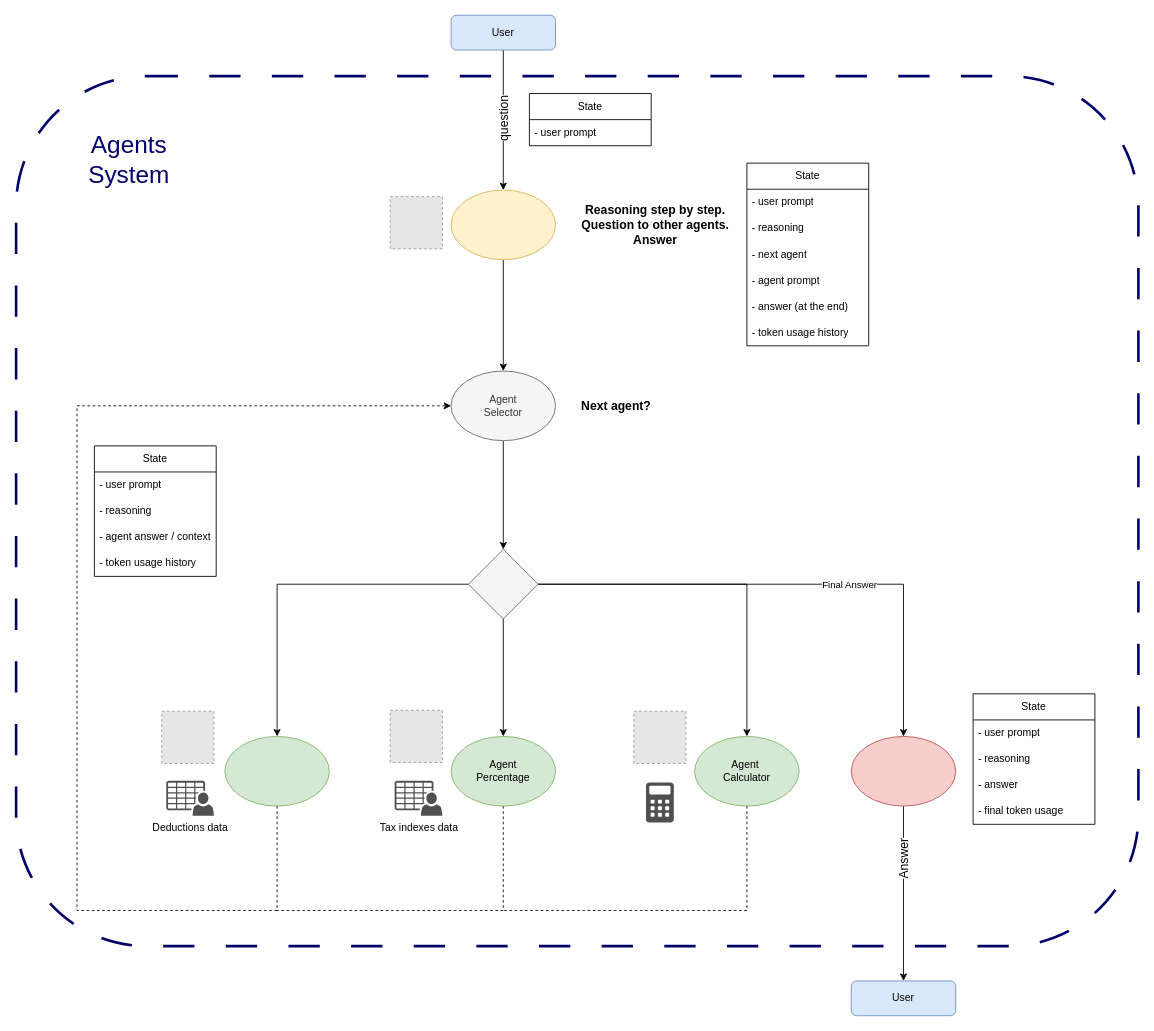
Image size: 1154x1031. Some labels were removed from this diagram. Grey dashed boxes stand in for pictures. The centre of each missing label's shape, as x and y in pixels:
Agent Accountant: the point at 502,224
Agent Deductions: the point at 276,771
Agent Pricer: the point at 903,771
